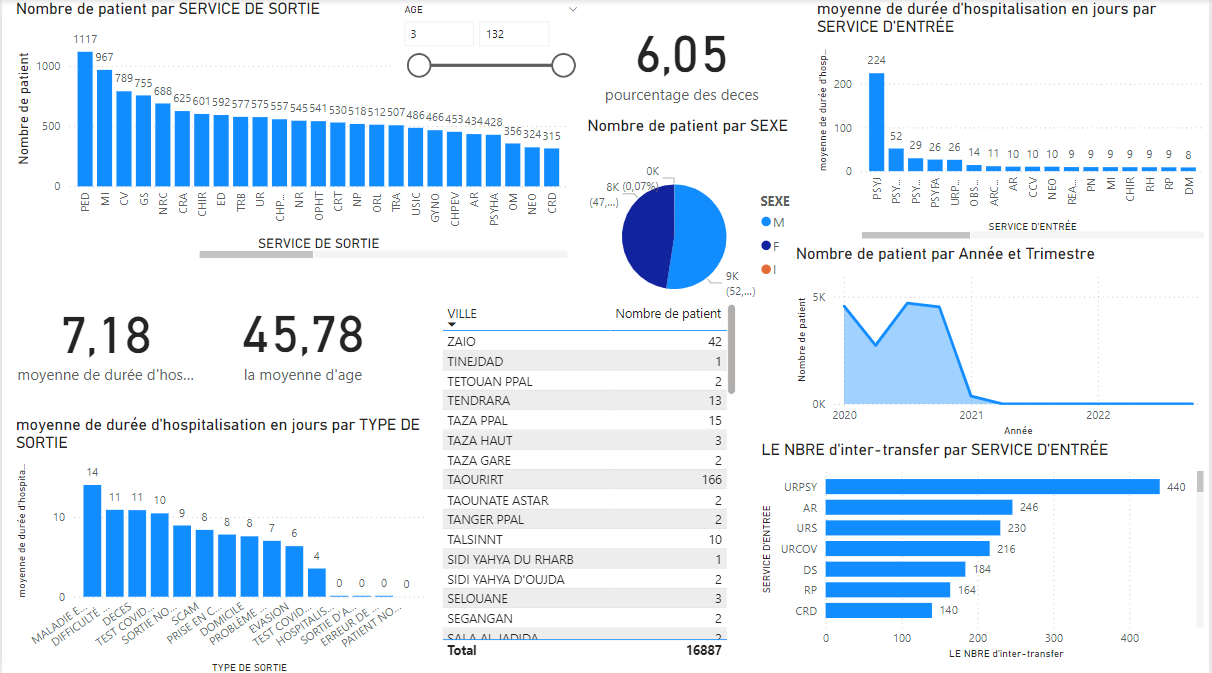

This screenshot's page, from the dashboard's own definition file:
{"tool":"powerbi","page":{"name":"Dashboard1","canvas":[1280,720],"ordinal":0},"visuals":[{"type":"pieChart","fields":{"Category":["Sheet1.SEXE"],"Y":["Sheet1.Nombre de patient"]},"box":[614.9,123.8,244.8,236.2],"z":0},{"type":"clusteredColumnChart","fields":{"Y":["Sheet1.Nombre de patient"],"Category":["Sheet1.SERVICE DE SORTIE"]},"box":[10.1,0,594.7,279.4],"z":1000},{"type":"areaChart","fields":{"Category":["Sheet1.DATE SORTIE.Variation.Hiérarchie de dates.Année","Sheet1.DATE SORTIE.Variation.Hiérarchie de dates.Trimestre"],"Y":["Sheet1.Nombre de patient"]},"box":[836.6,259.2,443.5,208.8],"z":2000},{"type":"clusteredColumnChart","fields":{"Category":["Sheet1.SERVICE D'ENTRÉE"],"Y":["Sheet1.moyenne de durée d'hospitalisation en jours"]},"box":[859.7,0,420.5,259.2],"z":3000},{"type":"card","fields":{"Values":["Sheet1.moyenne de durée d'hospitalisation en jours"]},"box":[10,266.7,200,184.4],"z":4000},{"type":"clusteredColumnChart","fields":{"Y":["Sheet1.moyenne de durée d'hospitalisation en jours"],"Category":["Sheet1.TYPE DE SORTIE"]},"box":[10,441.1,443.3,278.9],"z":5000},{"type":"barChart","fields":{"Category":["Sheet1.SERVICE D'ENTRÉE"],"Y":["Sheet1.LE NBRE d'inter-transfer"]},"box":[800.8,467.7,479.1,236.7],"z":6000},{"type":"card","fields":{"Values":["Sheet1.pourcentage des deces"]},"box":[602.4,0,235.3,123.3],"z":7000},{"type":"card","fields":{"Values":["Sheet1.la moyenne d'age"]},"box":[226.8,296.2,182.8,126.1],"z":8000},{"type":"tableEx","fields":{"Values":["Sheet1.VILLE","Sheet1.Nombre de patient"]},"box":[462,317.5,321.7,386.9],"z":9000},{"type":"slicer","fields":{"Values":["Sheet1.AGE"]},"box":[413.9,0,209.8,100.6],"z":10000}]}

Visuals, with their boxes in screenshot pixels (x1, y1, x2, y2), scaled from the page's 1280x720 canvas onto the 1212x673 screenshot:
pieChart - Sheet1.SEXE x Sheet1.Nombre de patient: BBox(582, 116, 814, 336)
clusteredColumnChart - Sheet1.Nombre de patient x Sheet1.SERVICE DE SORTIE: BBox(10, 0, 573, 261)
areaChart - Sheet1.DATE SORTIE.Variation.Hiérarchie de dates.Année x Sheet1.DATE SORTIE.Variation.Hiérarchie de dates.Trimestre: BBox(792, 242, 1211, 437)
clusteredColumnChart - Sheet1.SERVICE D'ENTRÉE x Sheet1.moyenne de durée d'hospitalisation en jours: BBox(814, 0, 1211, 242)
card - Sheet1.moyenne de durée d'hospitalisation en jours: BBox(9, 249, 199, 422)
clusteredColumnChart - Sheet1.moyenne de durée d'hospitalisation en jours x Sheet1.TYPE DE SORTIE: BBox(9, 412, 429, 672)
barChart - Sheet1.SERVICE D'ENTRÉE x Sheet1.LE NBRE d'inter-transfer: BBox(758, 437, 1211, 658)
card - Sheet1.pourcentage des deces: BBox(570, 0, 793, 115)
card - Sheet1.la moyenne d'age: BBox(215, 277, 388, 395)
tableEx - Sheet1.VILLE x Sheet1.Nombre de patient: BBox(437, 297, 742, 658)
slicer - Sheet1.AGE: BBox(392, 0, 591, 94)
